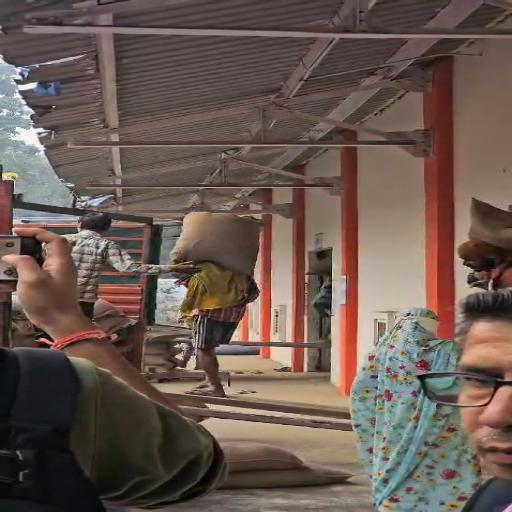bag: (170, 207, 262, 283)
